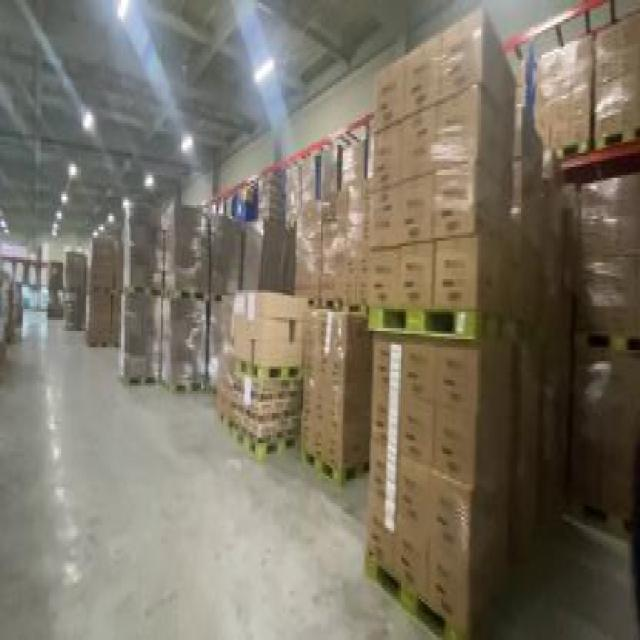box: (370, 25, 564, 637), (123, 200, 294, 413), (208, 292, 302, 460), (283, 148, 382, 306), (296, 301, 372, 492), (80, 235, 125, 348), (3, 238, 51, 317), (60, 246, 91, 337), (0, 268, 25, 375), (43, 263, 65, 320)
